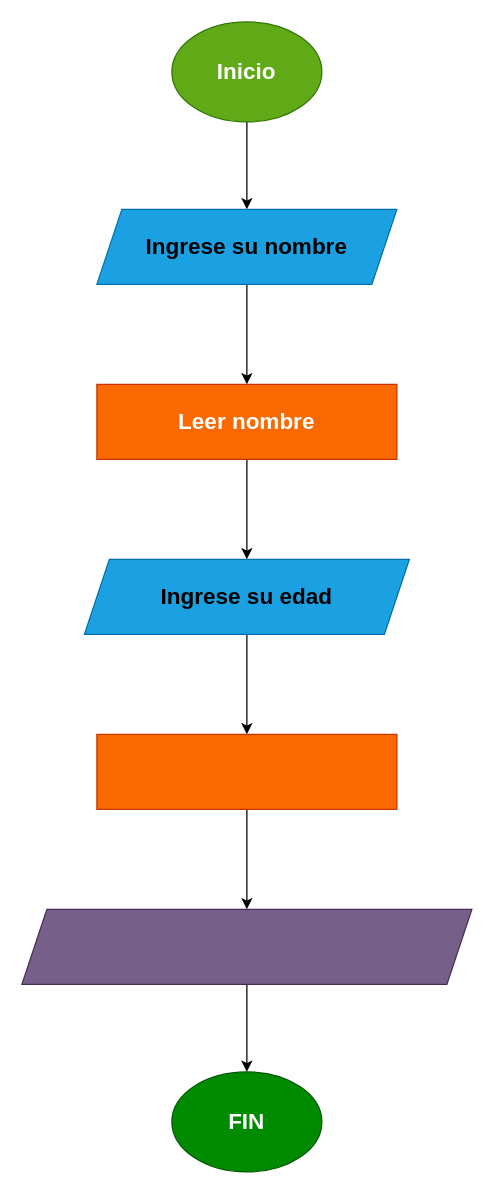
The diagram is 494 pixels wide and 1194 high, and some of its shapes have lost their labels. Here are the shapes that lost their labels. From the top down, the centre of each, then its label:
(x=246, y=771): Leer edad
(x=246, y=946): Escribir "Hola, (nombre), Tienes (edad) "años."
